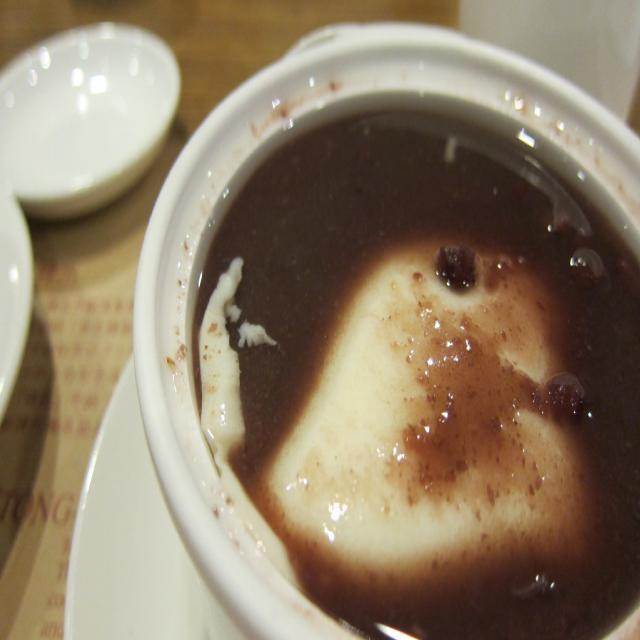Coffee: (185, 70, 640, 640)
